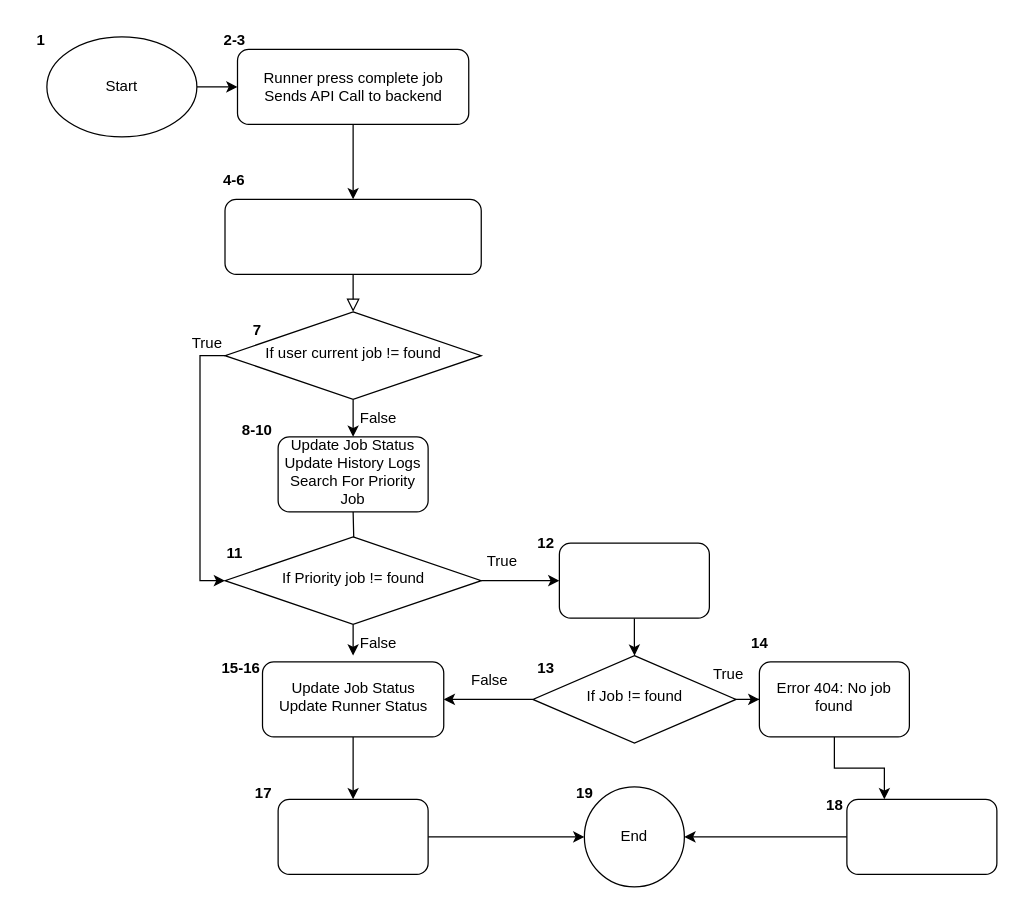
The diagram is 1019 pixels wide and 909 high, and some of its shapes have lost their labels. The centre of each missing label's shape, as x and y in pixels:
"Backend Received API Call Backend query data username = response.data.username" goes at pixel 352 236.
"Return Error Statement" goes at pixel 921 836.
"Return Job Postal Code" goes at pixel 352 836.
"Search for non-priority jobs" goes at pixel 633 580.
